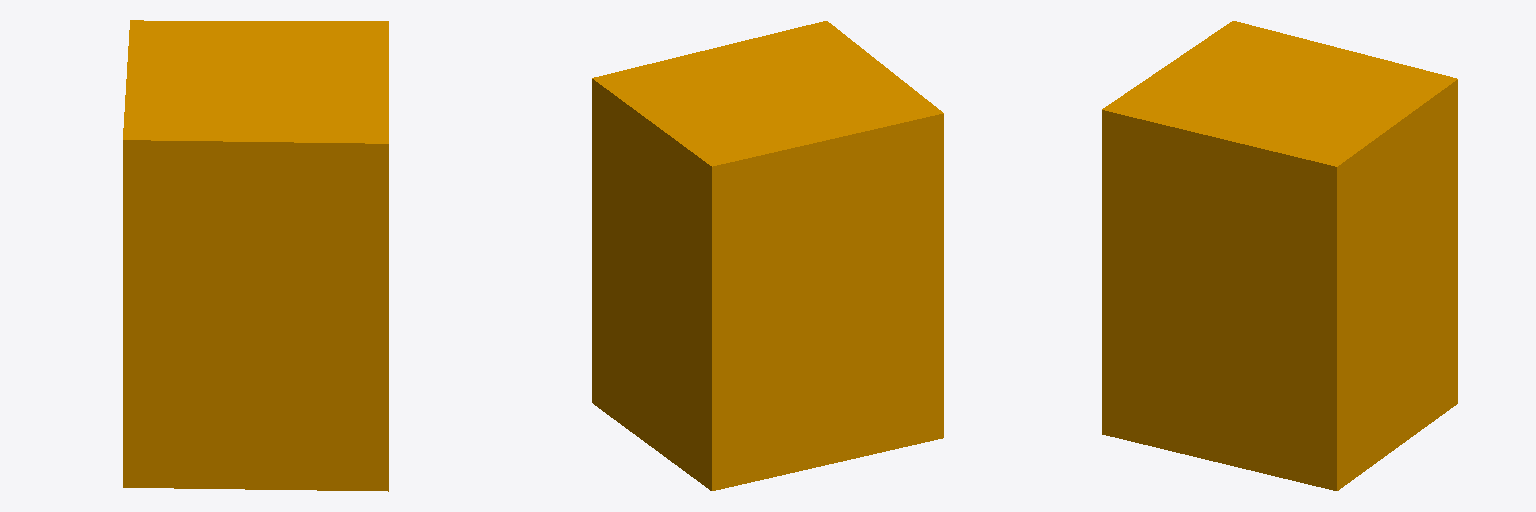
The robot description file, URDF, robot "object":
<?xml version="1.0"?>
<robot name="object">
  <link name="object">
    <visual>
      <origin xyz="0 0 0"/>
      <geometry>
        <mesh filename="meshes/generated/col_028.obj" scale="0.03 0.03 0.03"/>
      </geometry>
    </visual>
    <collision>
      <origin xyz="0 0 0"/>
      <geometry>
        <mesh filename="meshes/generated/col_028.obj" scale="0.03 0.03 0.03"/>
      </geometry>
    </collision>
    <inertial>
      <density value="1000.0"/>
    </inertial>
  </link>
</robot>

--- What the picture shows (computed from the rendered views, not written in the file) ---
3 views of the same robot in one strip: view 1: azimuth 30°, elevation 25°; view 2: azimuth 150°, elevation 25°; view 3: azimuth 270°, elevation 25° (orthographic).
Robot: object — 1 links, 0 joints (none); root link object; default pose: every joint at zero.
Links seen in each view (by area): view 1: object; view 2: object; view 3: object.
Boxes of the visible links, left/top/right/bottom form: object: left=123, top=20, right=388, bottom=491; object: left=592, top=21, right=943, bottom=490; object: left=1102, top=21, right=1457, bottom=490.
Size in the robot's own frame: 0.0581 by 0.0598 by 0.06 metres.
Meshes: 1 distinct files referenced, 1 mesh visuals loaded (1 OBJ).
